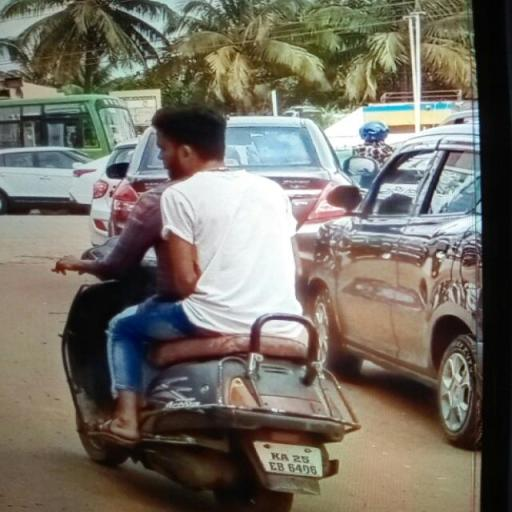bike: (46, 102, 356, 512)
numberplate: (258, 444, 331, 478)
withouthelmet: (156, 108, 230, 171)
